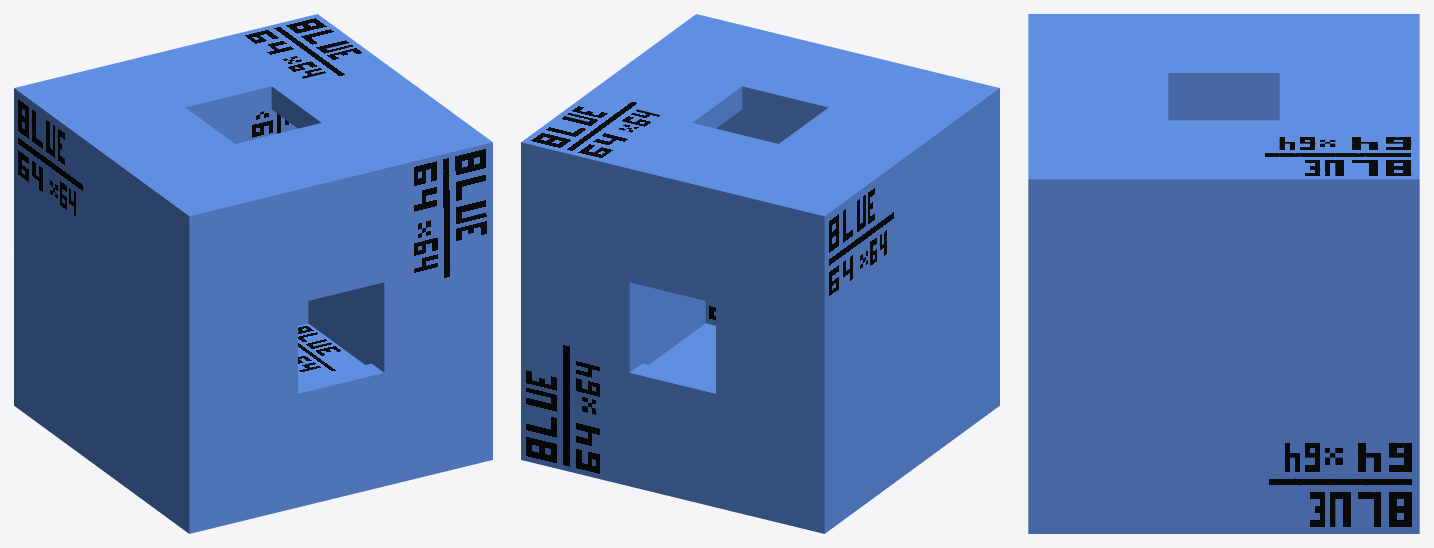
The model's file is room 1.fbx.
The picture shows the model from 3 angles, left to right: view 1: azimuth 30°, elevation 25°; view 2: azimuth 150°, elevation 25°; view 3: azimuth 270°, elevation 25°; orthographic projection. The views are drawn at different scales.
Visible parts, largest first — view 1: Cube; view 2: Cube; view 3: Cube.
Part boxes in pixels (x1,y1,x2,y2): Cube: (14, 14, 492, 533); Cube: (521, 14, 999, 533); Cube: (1028, 14, 1419, 533).
Bounding box in the file's own units: 234 × 234 × 234.
